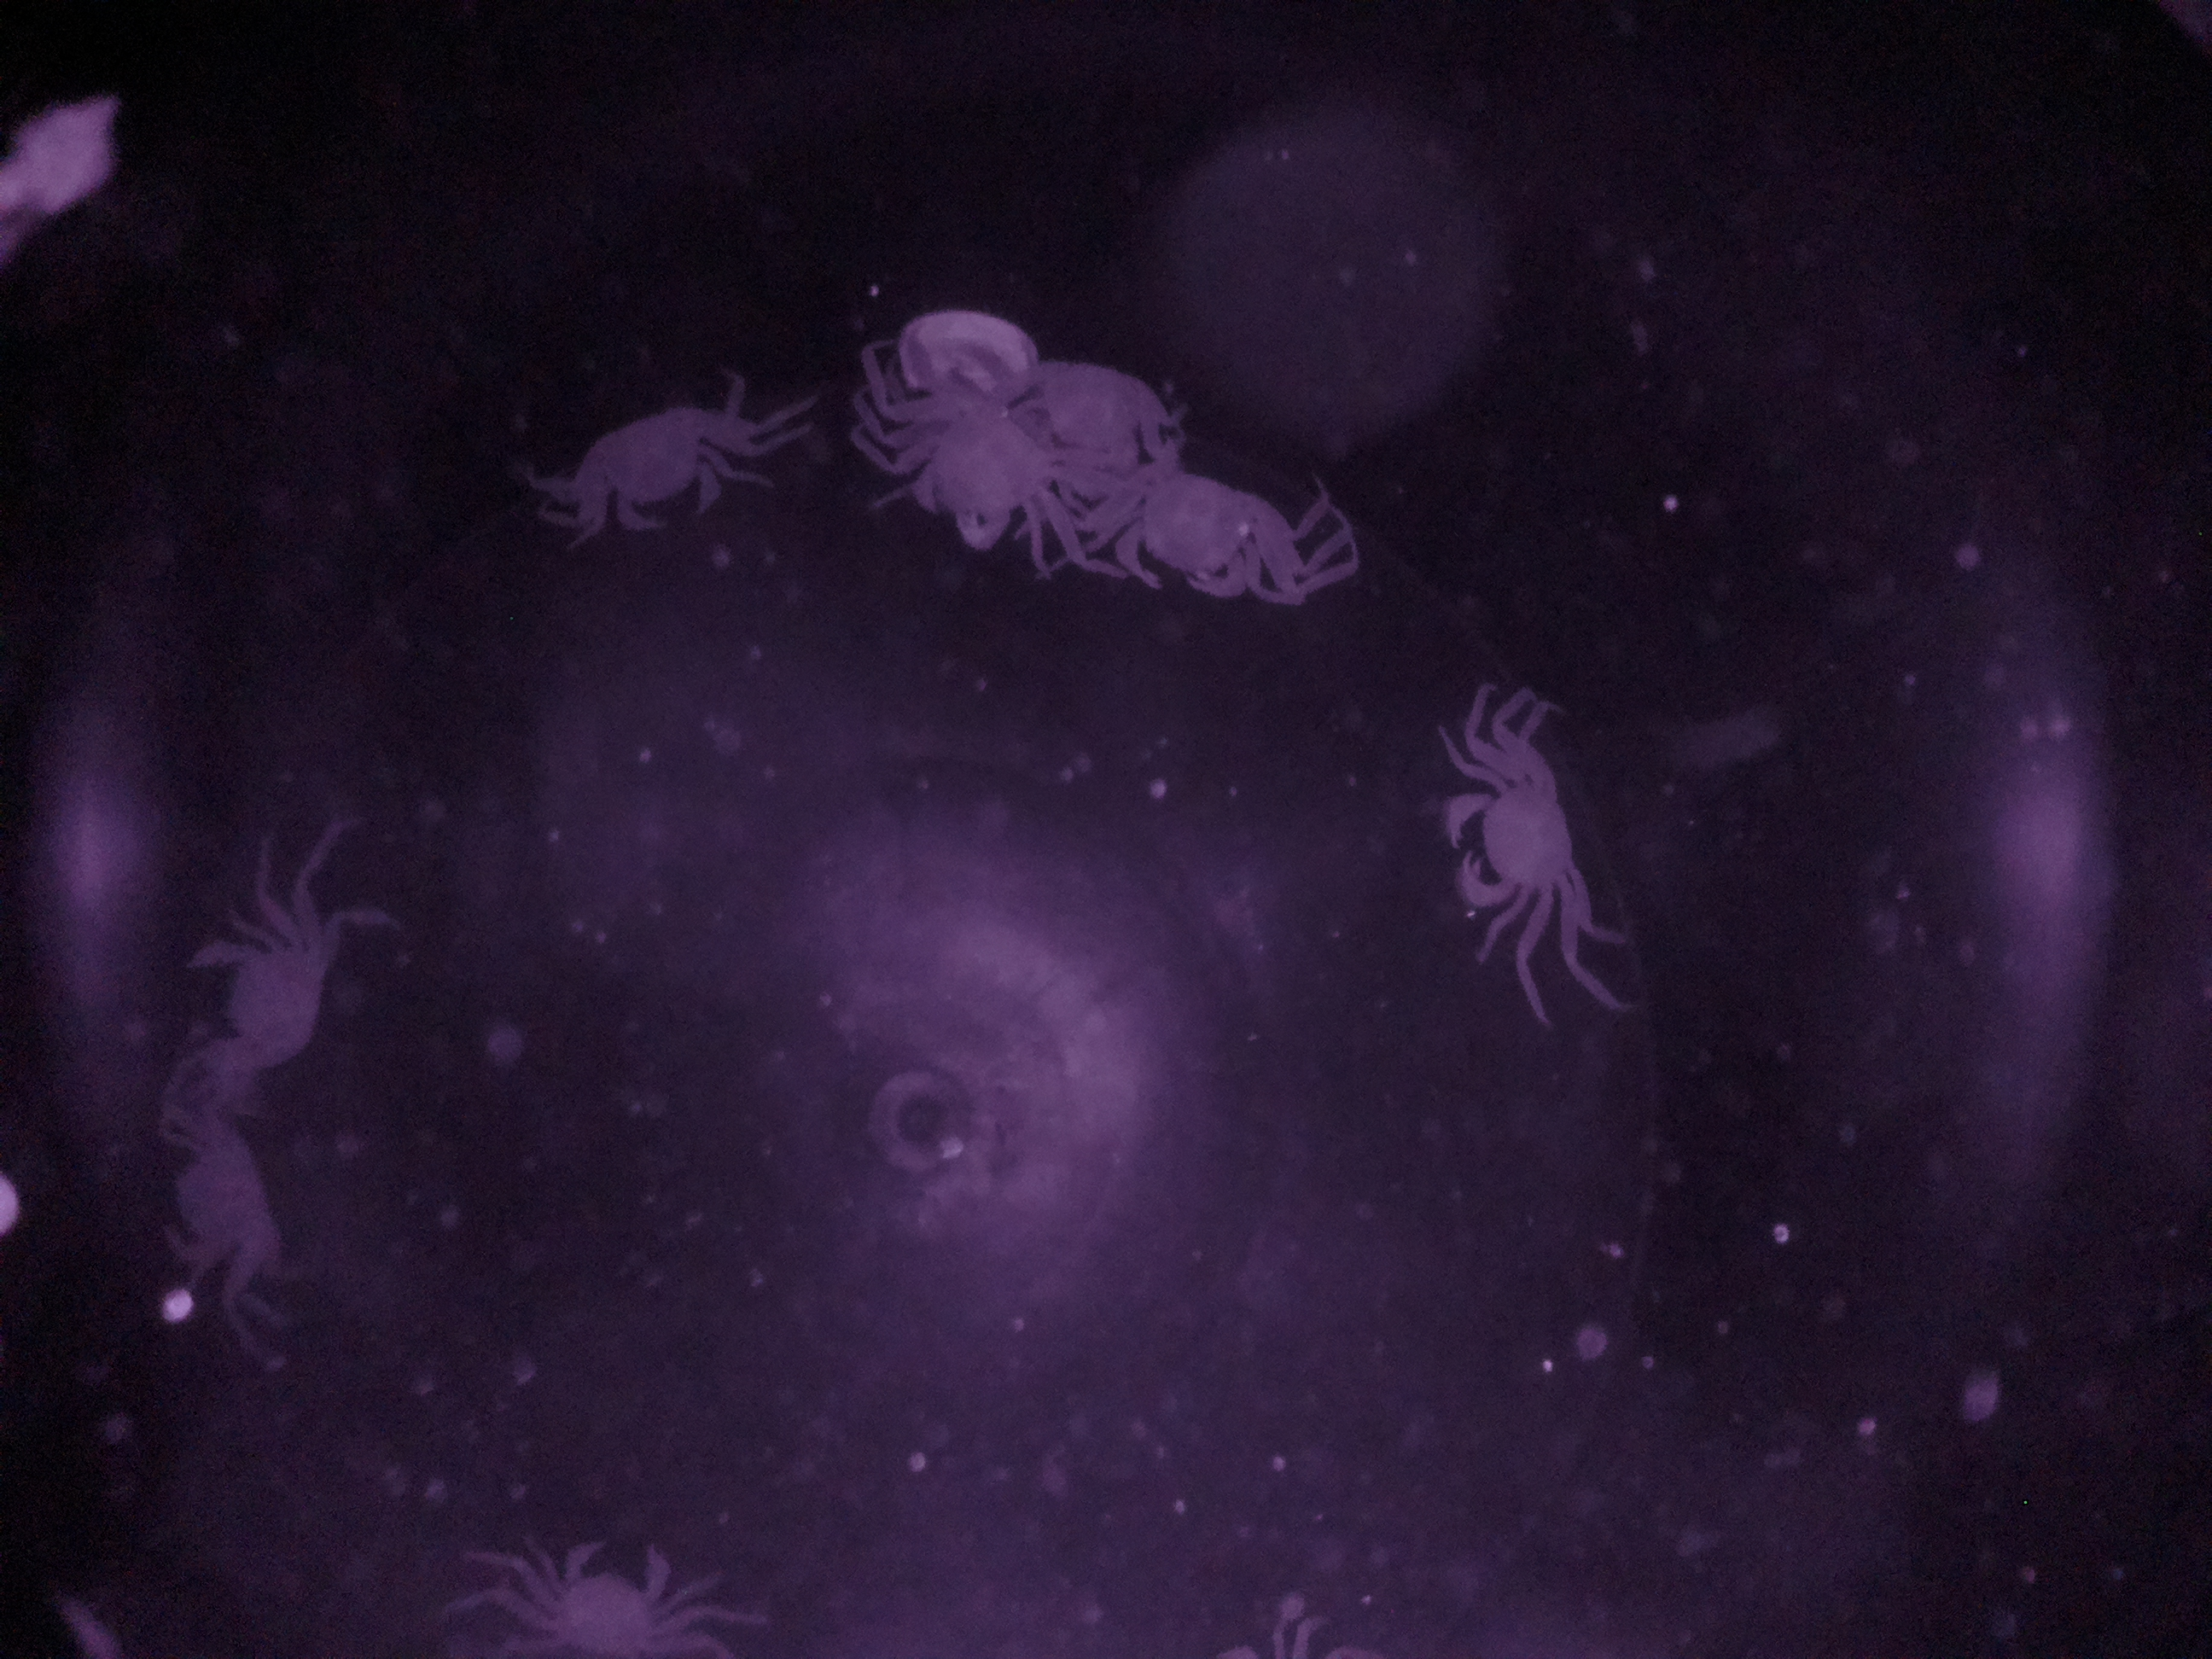Crab: (1425, 727, 1627, 967), (556, 380, 786, 549), (523, 1495, 702, 1659)
